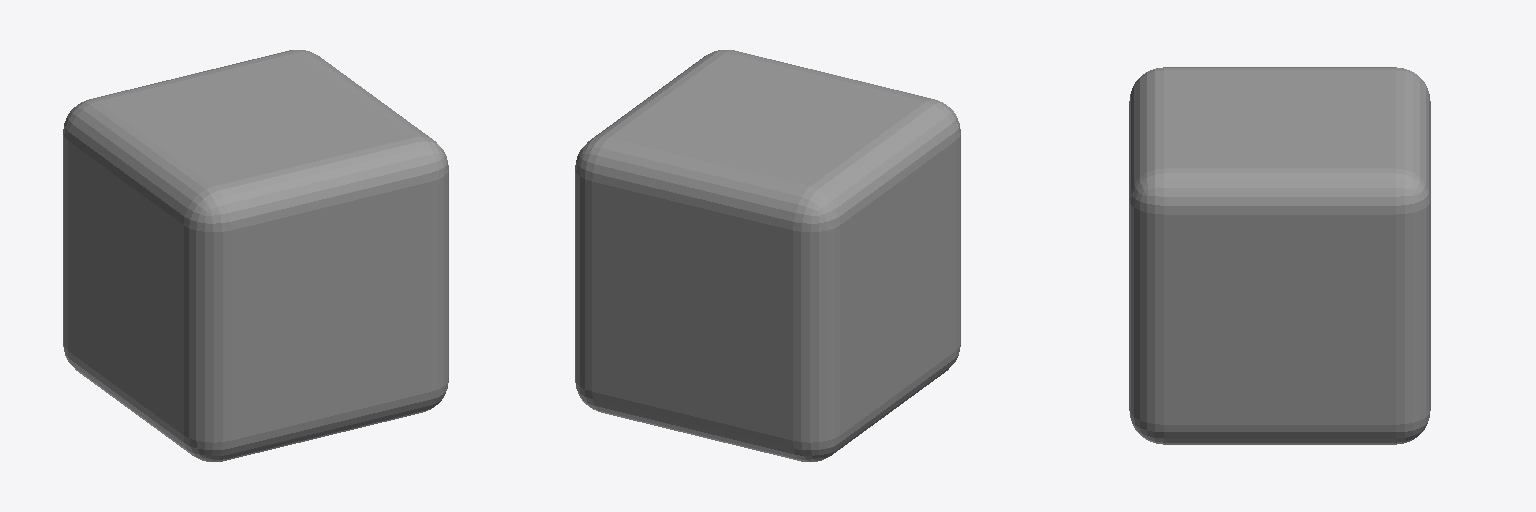
The model's file is cube_with_rounded_edges7.obj.
3 views of the same model, side by side, from view 1: azimuth 30°, elevation 25°; view 2: azimuth 150°, elevation 25°; view 3: azimuth 270°, elevation 25° (orthographic).
Visible parts, largest first — view 1: cube7; view 2: cube7; view 3: cube7.
Boxes of the visible parts, <box> form: cube7: <box>63,50,448,461</box>; cube7: <box>575,50,960,461</box>; cube7: <box>1129,67,1430,444</box>.
Bounding box in the file's own units: 2 × 2 × 2.